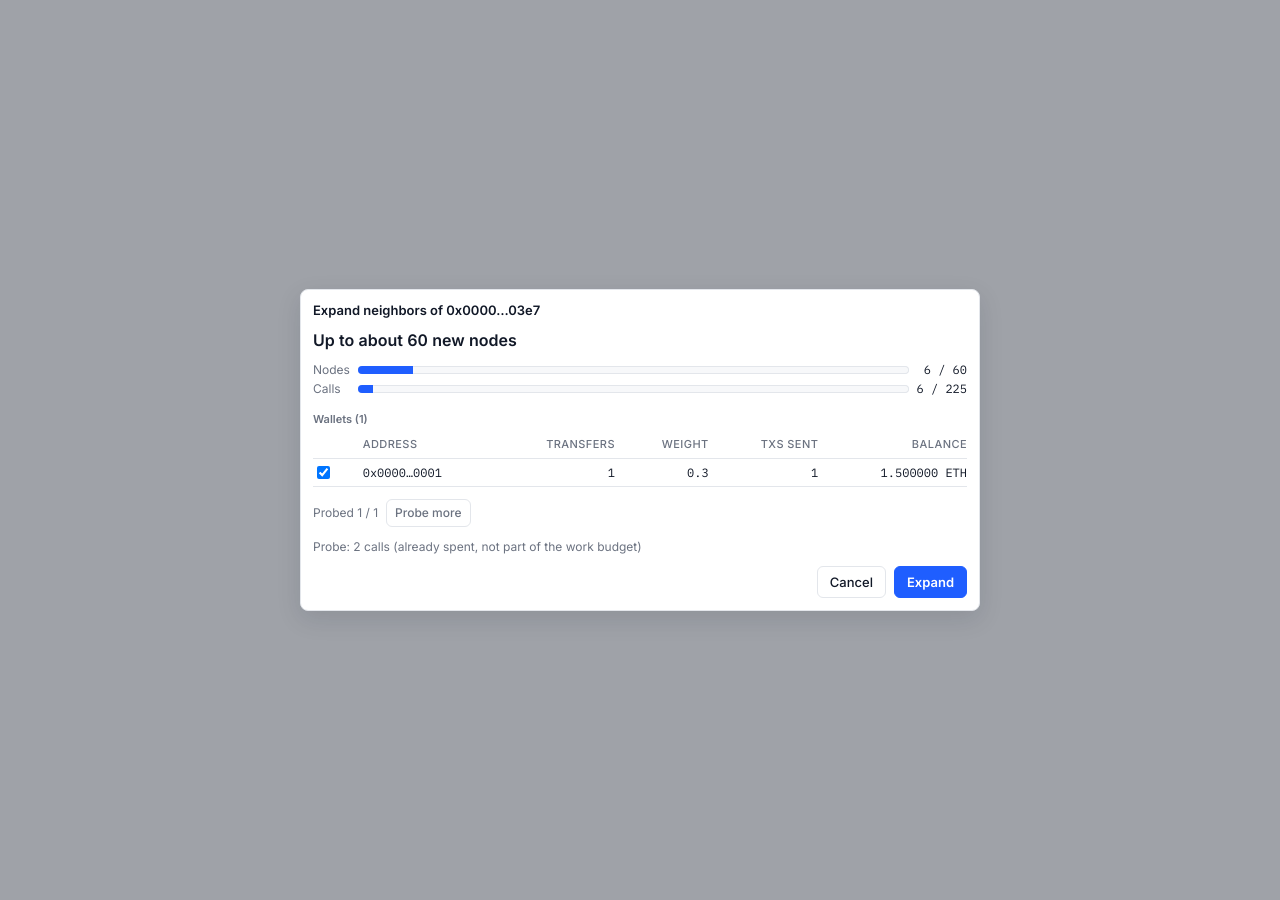
Scenario: the Undo toast has no timer: it stays until another history step or its close button
Click the button "Expand": [930, 582] box [894,566,967,598]
Wait 600000 ms
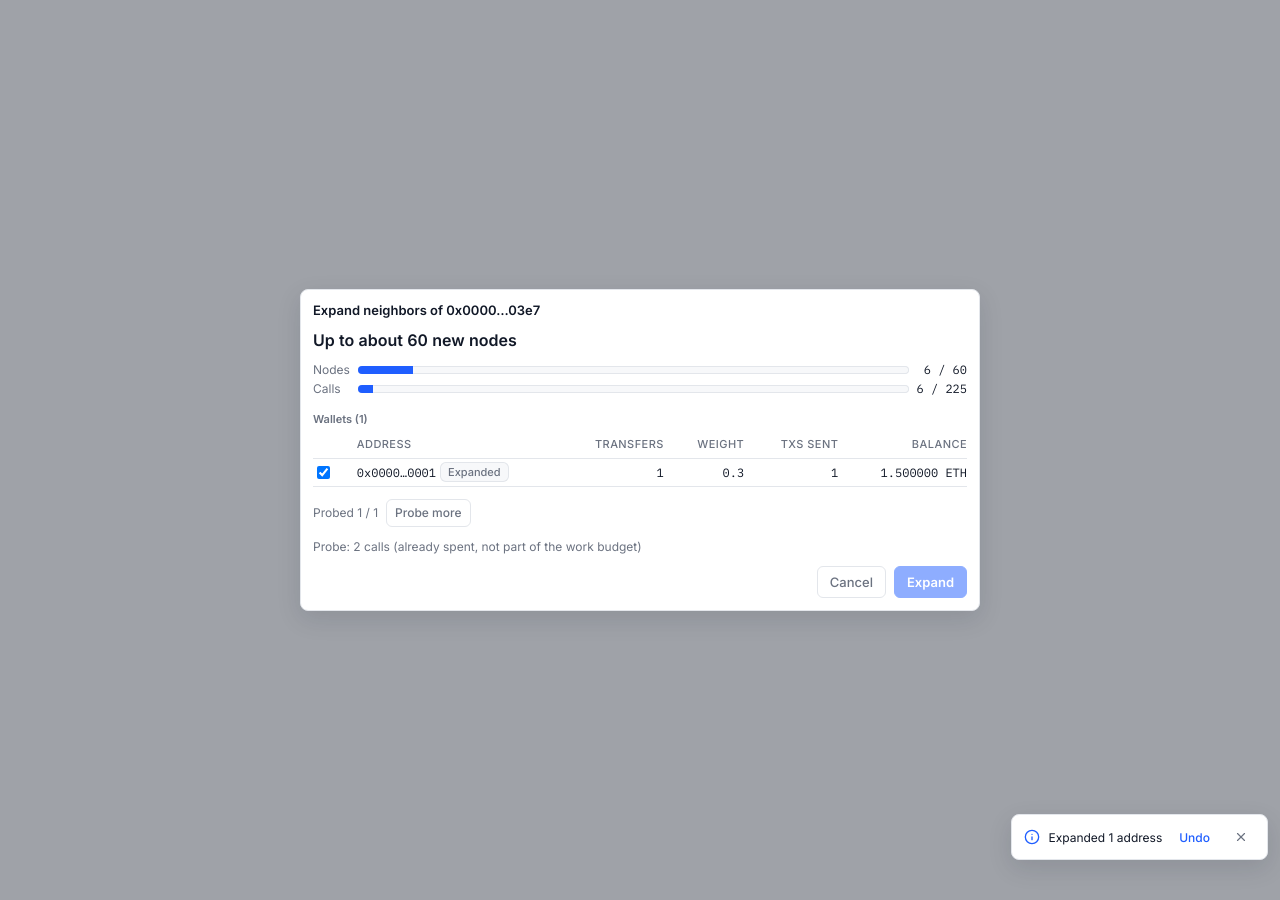
Check: the text "Expanded 1 address" is shown, box [1048,830,1162,844]
Click the button named "Dismiss": [1241, 837] box [1227,823,1255,851]
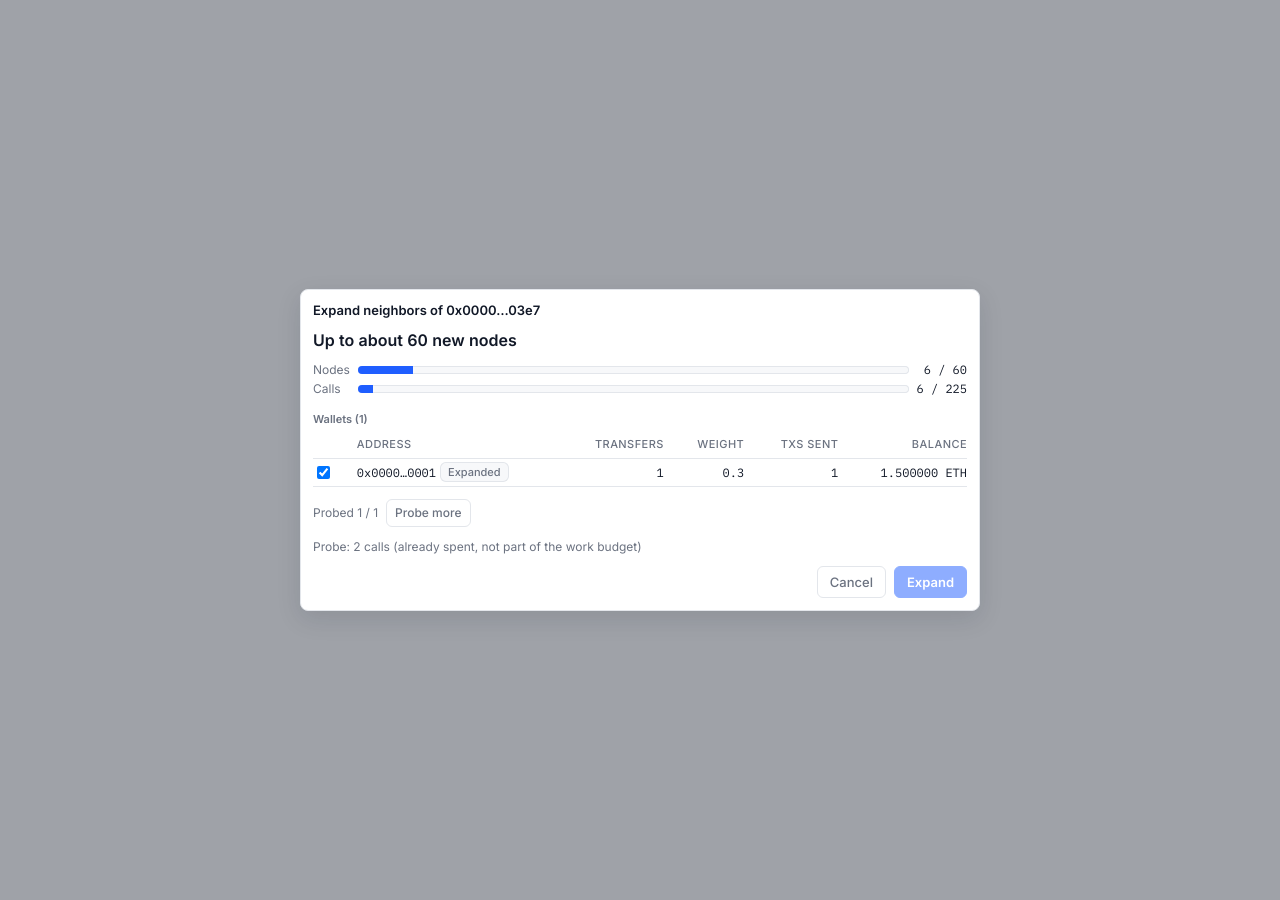
Check: the text "Expanded 1 address" is gone
